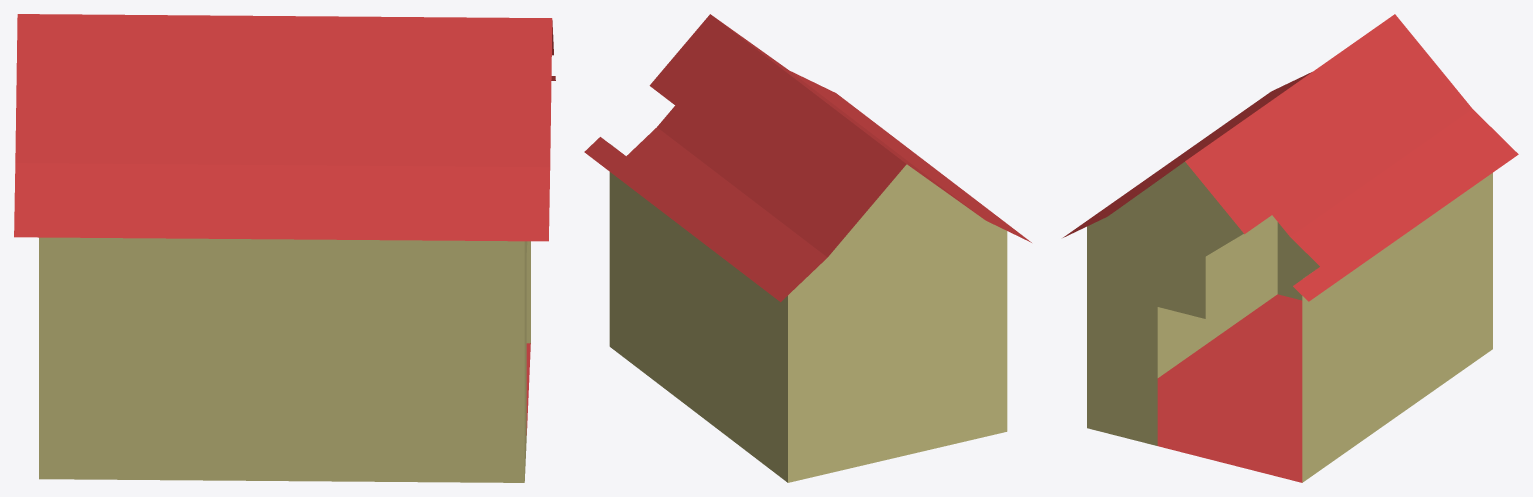
3 renders of one model, left to right at view 1: azimuth 30°, elevation 25°; view 2: azimuth 150°, elevation 25°; view 3: azimuth 270°, elevation 25°, orthographic. The views are drawn at different scales.
Bounding box in the file's own units: 19.93 × 18.31 × 13.29.
